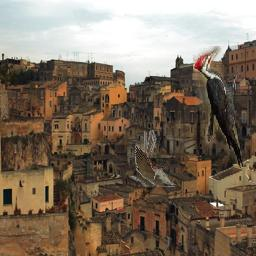Cuckoo: (135, 131, 177, 188)
Woodpecker: (193, 46, 243, 168)
